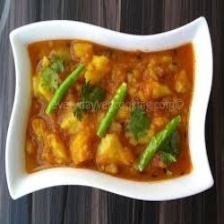sabzi: (21, 40, 195, 183)
